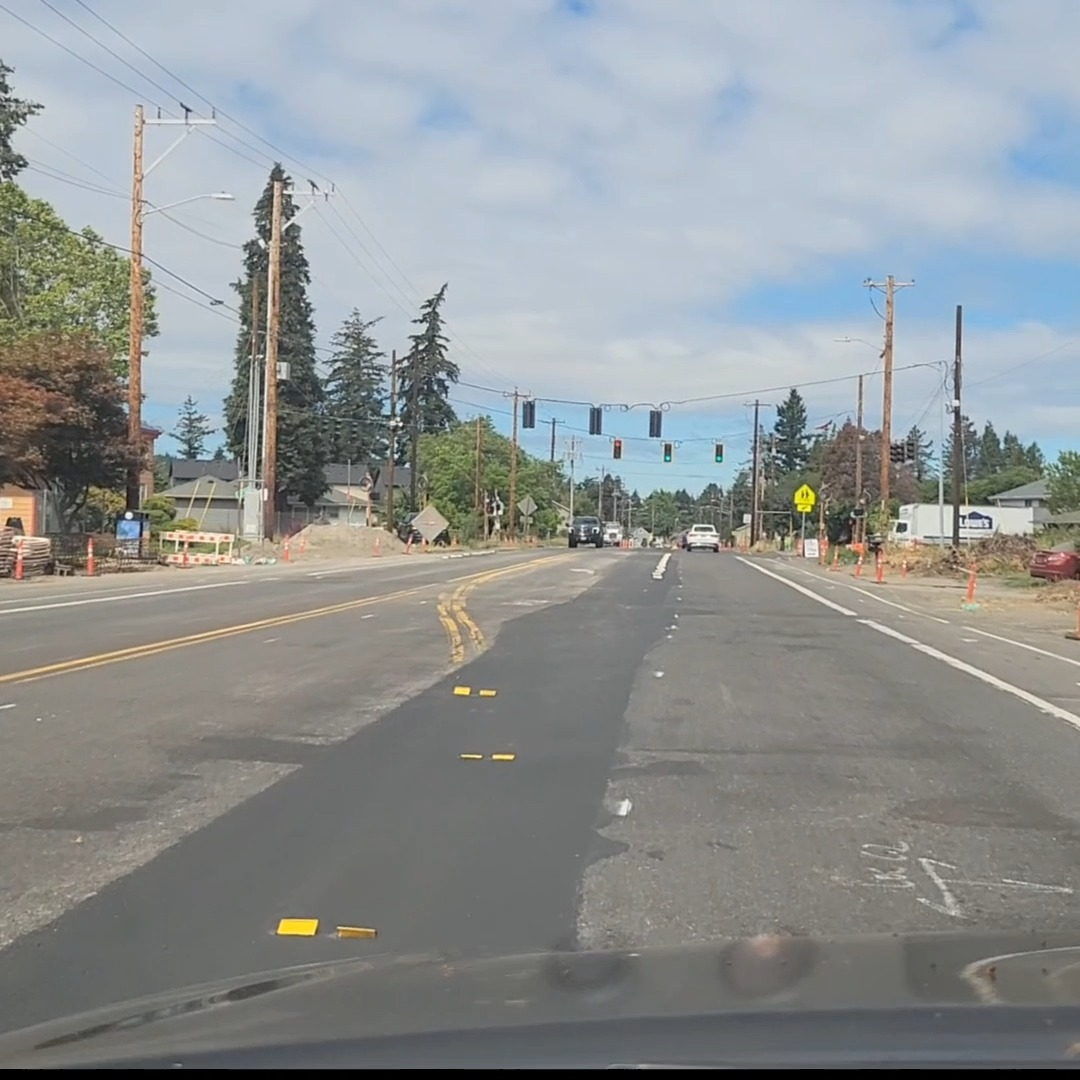car: (396, 513, 450, 545), (566, 515, 603, 548), (681, 524, 720, 552), (601, 522, 623, 547)
crosswalk-sign: (793, 483, 815, 513)
delineator: (960, 558, 981, 612), (852, 543, 866, 576), (14, 542, 25, 579), (86, 536, 95, 575), (874, 550, 884, 582), (830, 544, 840, 569), (403, 533, 414, 553), (818, 538, 826, 563), (372, 535, 381, 556), (282, 540, 290, 562), (900, 555, 908, 577), (181, 546, 189, 567), (299, 537, 306, 553), (504, 534, 512, 545)
